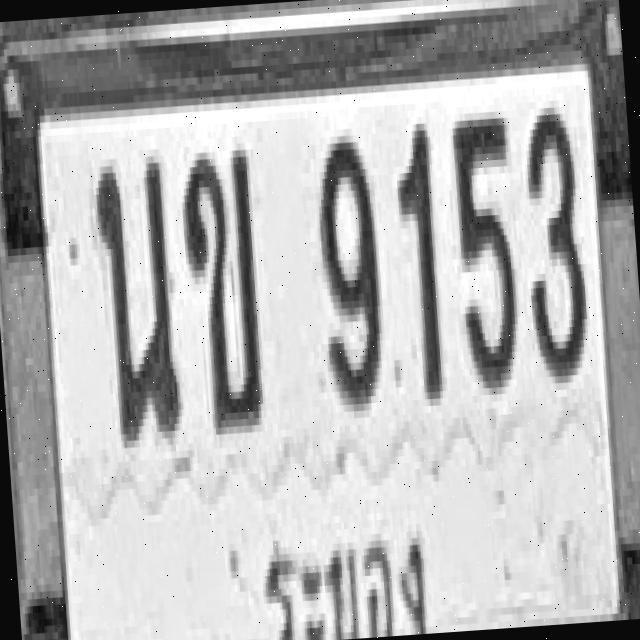1: (392, 123, 446, 400)
11KhorKhai: (177, 146, 266, 432)
3: (518, 102, 590, 381)
34NorNu: (91, 155, 182, 441)
5: (449, 107, 524, 392)
9: (312, 134, 385, 406)
Rayong: (256, 507, 441, 640)
